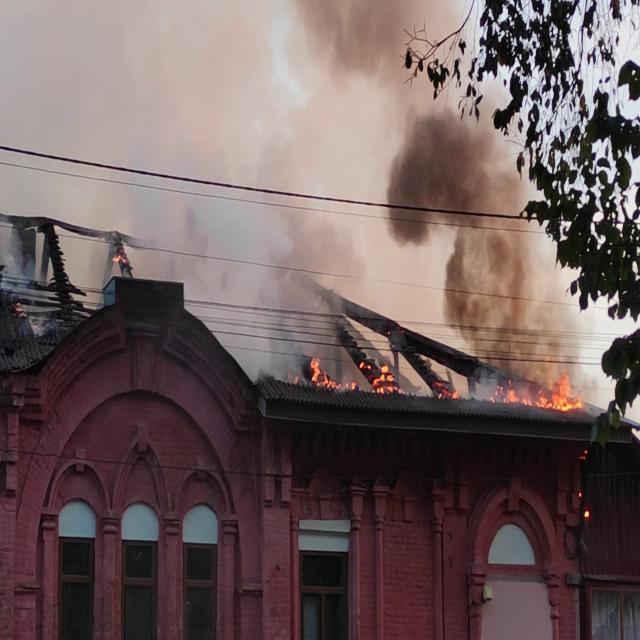fire: (517, 373, 573, 407), (360, 360, 400, 395)
smoke: (392, 136, 478, 246), (210, 209, 277, 322)
